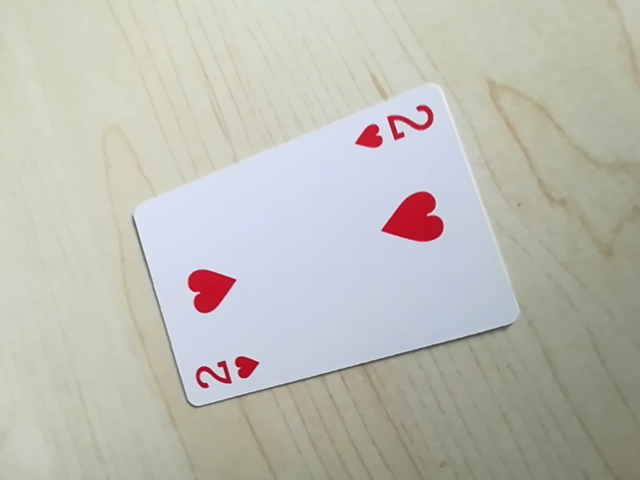hx 2: (348, 98, 442, 158), (189, 349, 264, 400)
